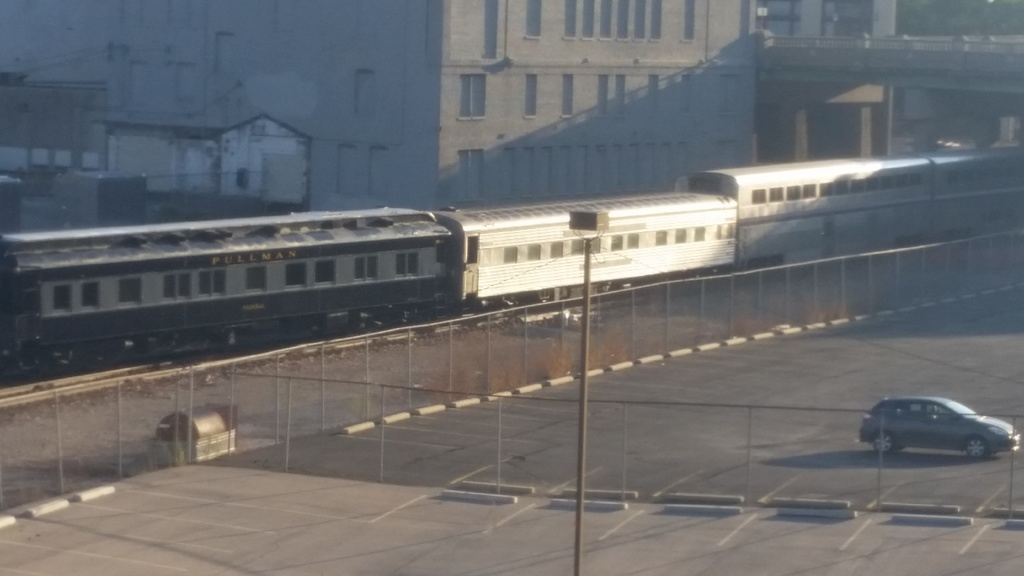Car: (858, 391, 1009, 463)
